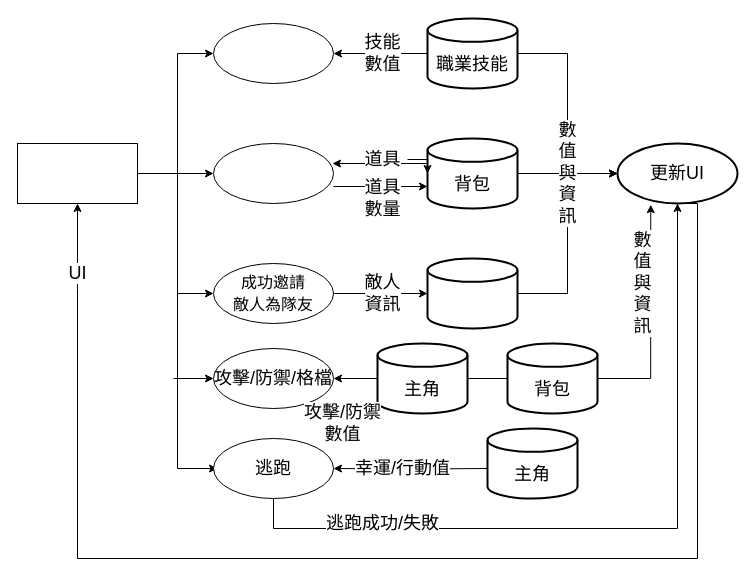
Some shapes in this 756 by 577 pixel diagram are drawn without their labels. Each missing label, with the centre of its shape:
"user / 敵人" goes at [77,173].
"使用技能" goes at [273,53].
"使用道具" goes at [273,173].
"隊友" goes at [472,293].
